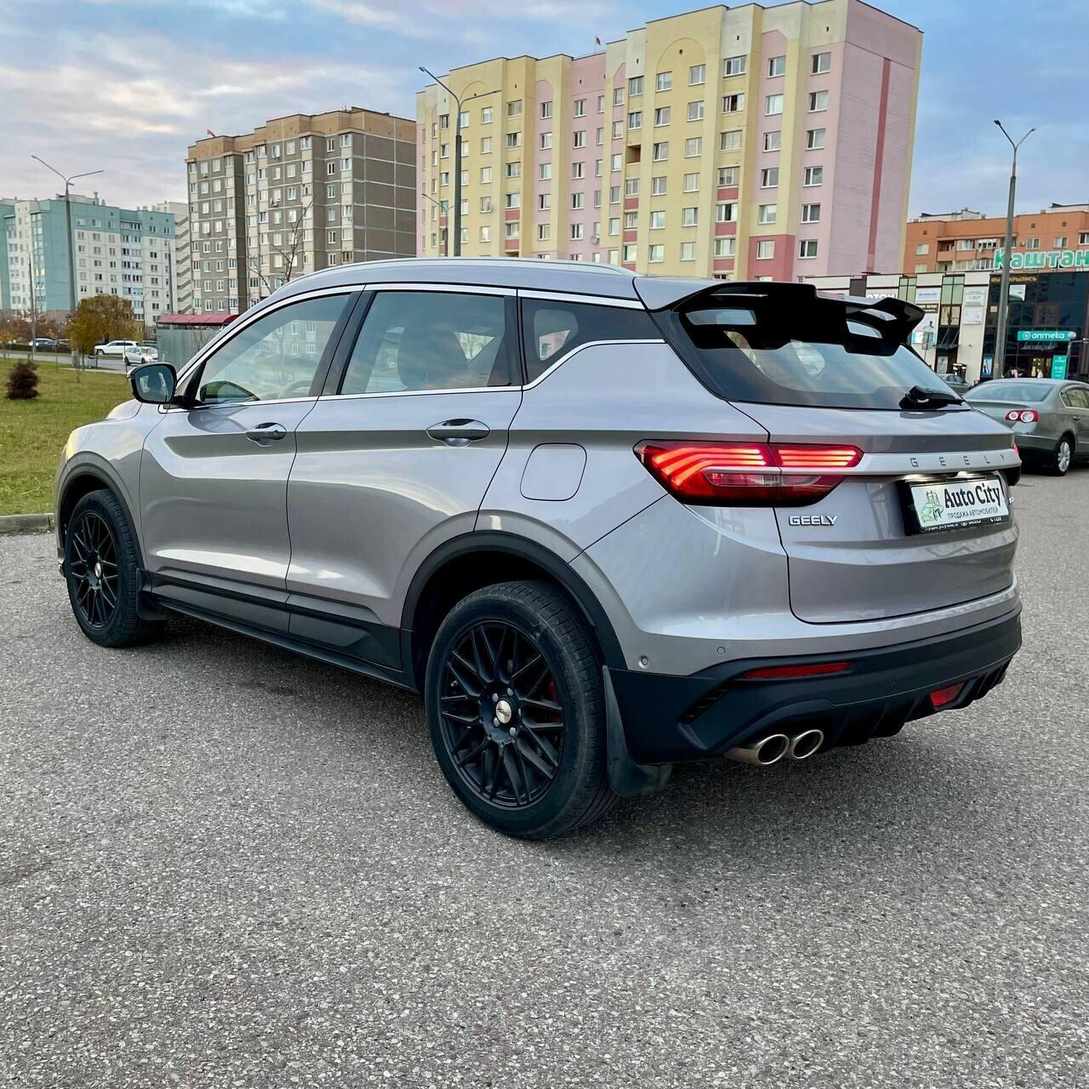Coolray_2019-2023: (47, 250, 1031, 845)
